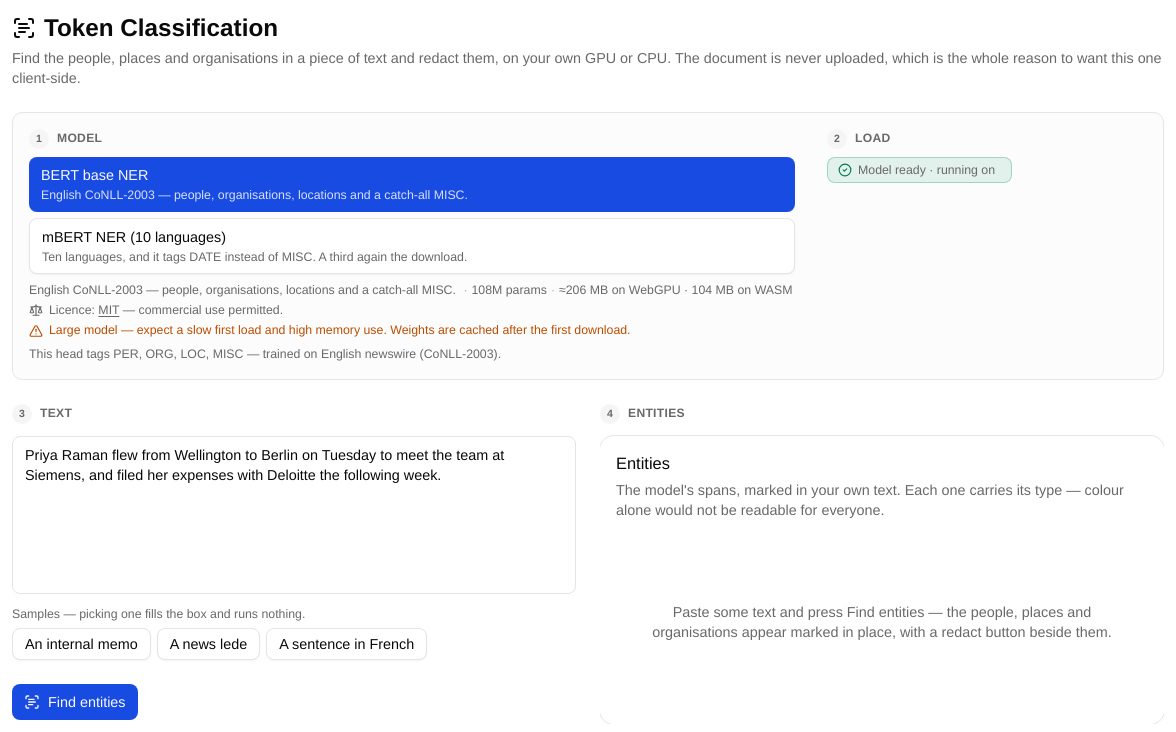
Test: TokenClassificationPage › says so when the model found nothing, rather than showing an empty panel
Step 1. Click the button "Find entities" → (75, 702), box [12,684,138,720]
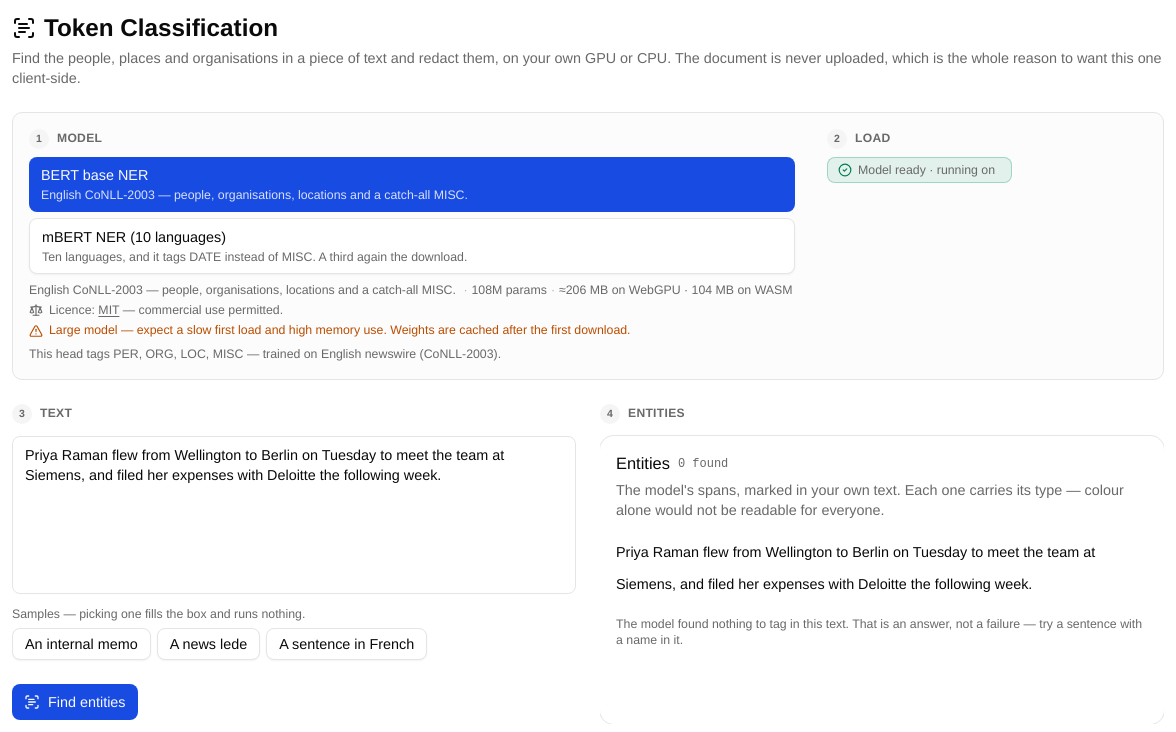
Expected: the text "found nothing to tag" is shown, [616,616,1142,648]
